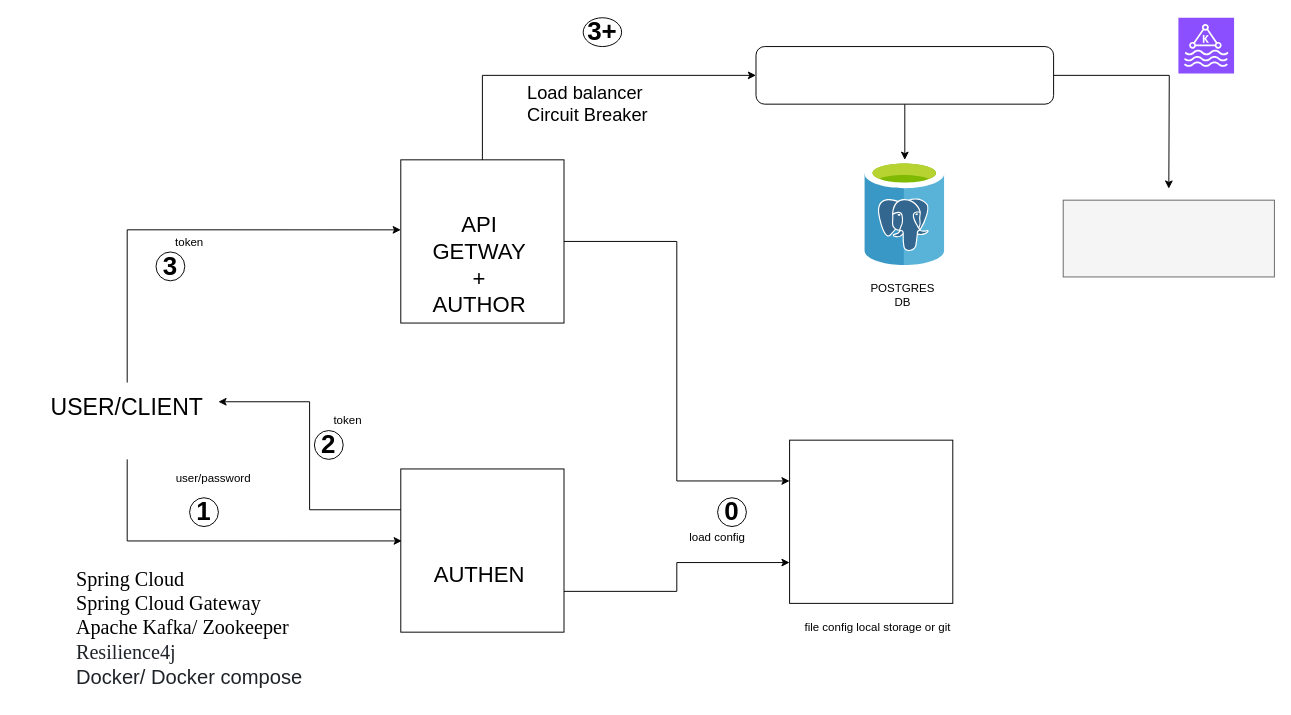
The diagram is 1291 pixels wide and 715 high, and some of its shapes have lost their labels. Each missing label, with the centre of its shape:
"CONFIG SERVER" goes at pixel 871 521.
"Open Service Or 3rd Service" goes at pixel 1168 238.
"PRODUCT-SERVICE" goes at pixel 904 75.
